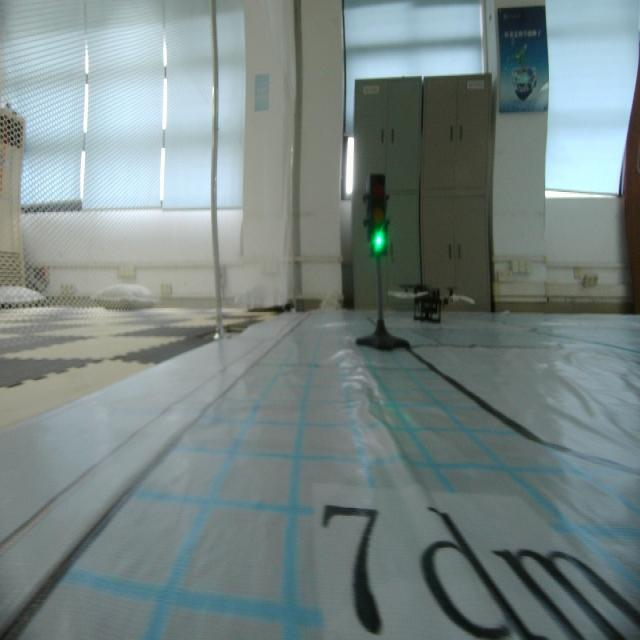green: (361, 160, 391, 261)
